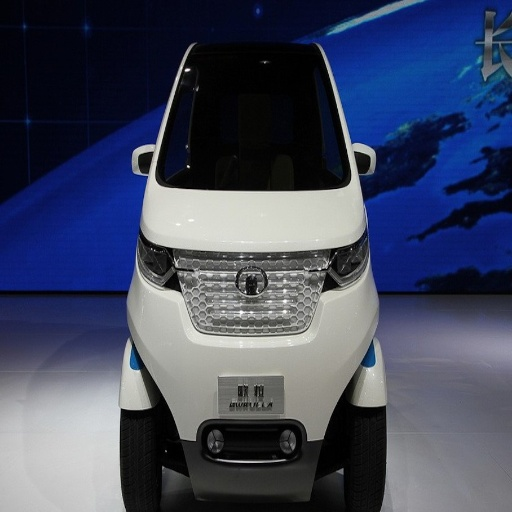front_bumper: (120, 246, 387, 500)
front_right_light: (138, 237, 174, 287)
hood: (143, 183, 365, 251)
